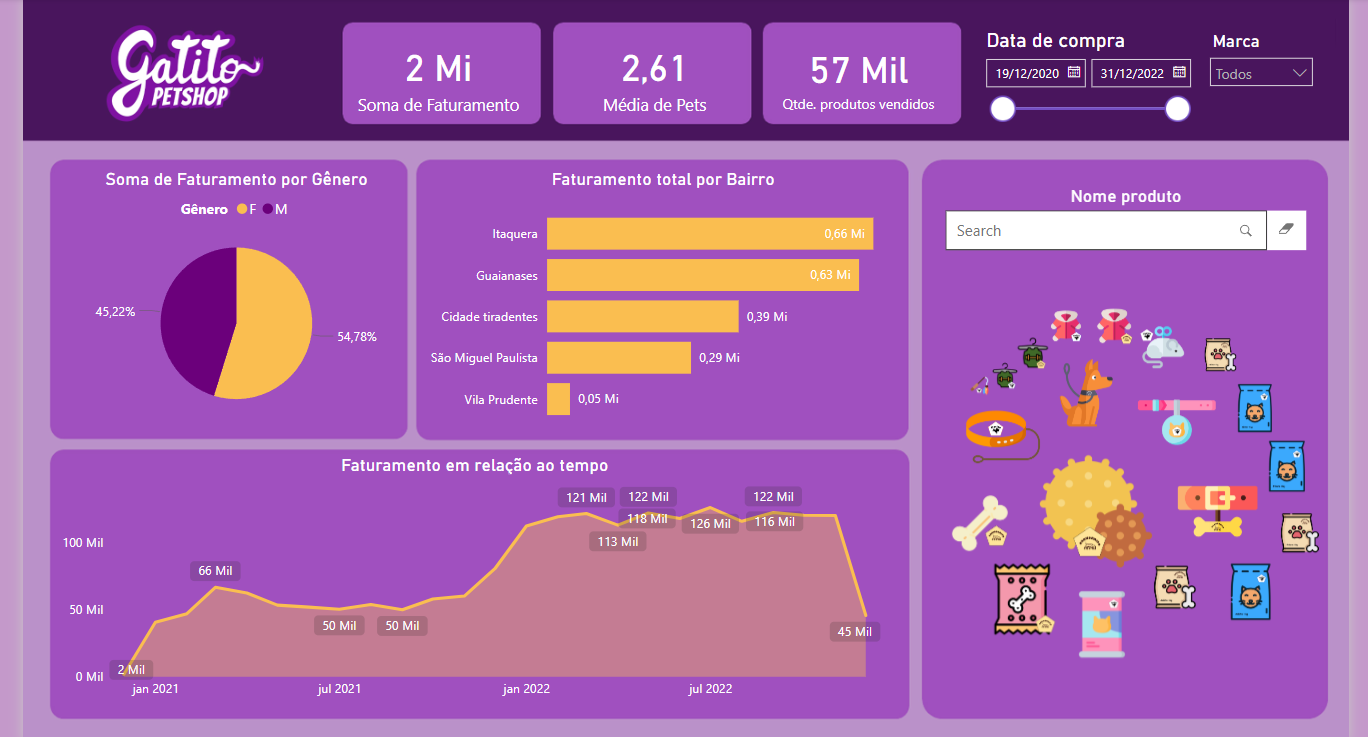

This screenshot's page, from the dashboard's own definition file:
{"tool":"powerbi","page":{"name":"Página 1","canvas":[1280,720],"ordinal":0},"visuals":[{"type":"card","fields":{"Values":["Sum(Vendas.Faturamento)"]},"box":[310.1,31.4,182.2,86.9],"z":0},{"type":"card","fields":{"Values":["Avg(Clientes.Pets)"]},"box":[521.2,31.4,177.3,86.9],"z":1000},{"type":"card","fields":{"Values":["Sum(Vendas.Quantidade)"]},"box":[727.5,25.3,158,98.9],"z":2000},{"type":"pieChart","fields":{"Category":["Clientes.Gênero"],"Y":["Sum(Vendas.Faturamento)"]},"box":[32.9,164.7,347.2,251.1],"z":3000},{"type":"clusteredBarChart","title":"Faturamento total por Bairro","fields":{"Category":["Clientes.Bairro"],"Y":["Sum(Vendas.Faturamento)"]},"box":[380.1,164.7,476.2,260.7],"z":4000},{"type":"areaChart","title":"Faturamento em relação ao tempo","fields":{"Category":["Vendas.Data de compra.Variation.Hierarquia de datas.Ano","Vendas.Data de compra.Variation.Hierarquia de datas.Trimestre","Vendas.Data de compra.Variation.Hierarquia de datas.Mês","Vendas.Data de compra.Variation.Hierarquia de datas.Dia"],"Y":["Sum(Vendas.Faturamento)"]},"box":[32.6,440.4,807.1,244.9],"z":5000},{"type":"ImageGrid_FC5183B9_926C_45E0_B5F7_0CE9EAF1DA9B","fields":{"ImageURL":["Produtos.Url img"]},"box":[868.6,252.5,411.7,432.2],"z":6000},{"type":"slicer","fields":{"Values":["Produtos.Marca"]},"box":[1135.3,26.5,119.4,96.5],"z":7000},{"type":"slicer","fields":{"Values":["Vendas.Data de compra"]},"box":[916.9,25.3,218.4,155.6],"z":8000},{"type":"textFilter25A4896A83E0487089E2B90C9AE57C8A","fields":{"field":["Produtos.Nome produto"]},"box":[885.5,181,358.3,100.1],"z":8001}]}

Visuals, with their boxes on the page's 1280x720 design canvas (x1, y1, x2, y2). These are canvas units, not pixel positions in the 1368x737 screenshot, which may show the page scaled, cropped or inside an application window:
card - Sum(Vendas.Faturamento): 310,31,492,118
card - Avg(Clientes.Pets): 521,31,698,118
card - Sum(Vendas.Quantidade): 728,25,886,124
pieChart - Clientes.Gênero x Sum(Vendas.Faturamento): 33,165,380,416
"Faturamento total por Bairro" clusteredBarChart: 380,165,856,425
"Faturamento em relação ao tempo" areaChart: 33,440,840,685
ImageGrid_FC5183B9_926C_45E0_B5F7_0CE9EAF1DA9B - Produtos.Url img: 869,252,1280,685
slicer - Produtos.Marca: 1135,26,1255,123
slicer - Vendas.Data de compra: 917,25,1135,181
textFilter25A4896A83E0487089E2B90C9AE57C8A - Produtos.Nome produto: 886,181,1244,281
